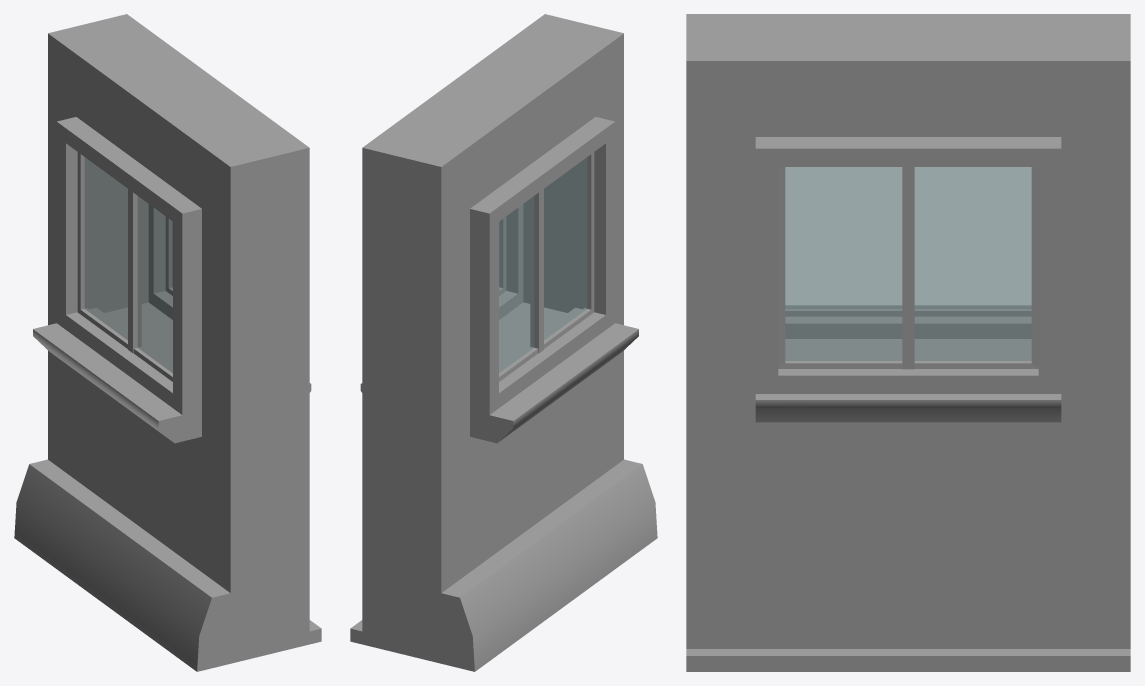
The model's file is SM_Wall_Window_Glass_NoTop.fbx.
3 renders of one model, left to right at view 1: azimuth 30°, elevation 25°; view 2: azimuth 150°, elevation 25°; view 3: azimuth 270°, elevation 25°, orthographic. The views are drawn at different scales.
Visible parts, largest first — view 1: SM_Wall_Window_Glass_NoTop; view 2: SM_Wall_Window_Glass_NoTop; view 3: SM_Wall_Window_Glass_NoTop.
Part boxes in pixels (x1=…): SM_Wall_Window_Glass_NoTop: x1=14, y1=14, x2=321, y2=671; SM_Wall_Window_Glass_NoTop: x1=350, y1=14, x2=657, y2=671; SM_Wall_Window_Glass_NoTop: x1=686, y1=14, x2=1130, y2=671.
Bounding box in the file's own units: 96.53 × 300 × 200.
